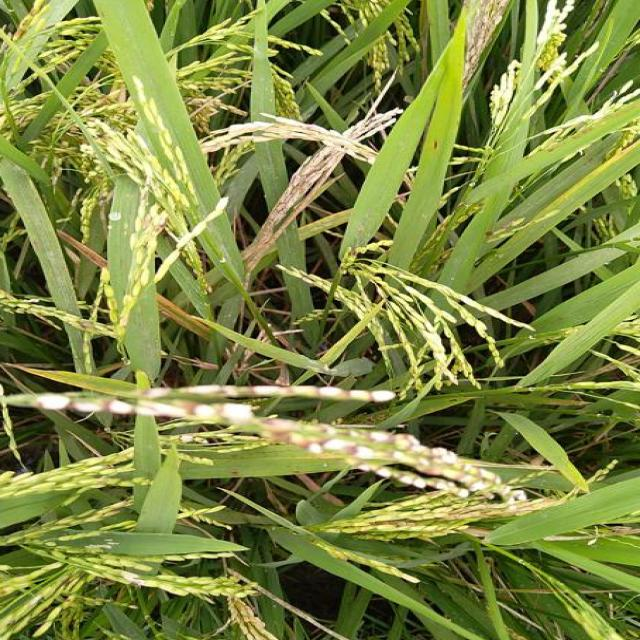Panicle Blight: (261, 418, 523, 502), (32, 394, 252, 421), (142, 384, 398, 402), (357, 464, 469, 498), (448, 498, 555, 519), (11, 7, 34, 42), (97, 500, 131, 516), (116, 570, 145, 587), (140, 176, 152, 207), (369, 521, 414, 528), (57, 576, 78, 591), (30, 591, 45, 606), (78, 319, 94, 330), (503, 220, 522, 228), (336, 551, 350, 561), (0, 587, 13, 597), (378, 566, 396, 572), (142, 219, 152, 229), (155, 225, 164, 233), (63, 596, 73, 603)
